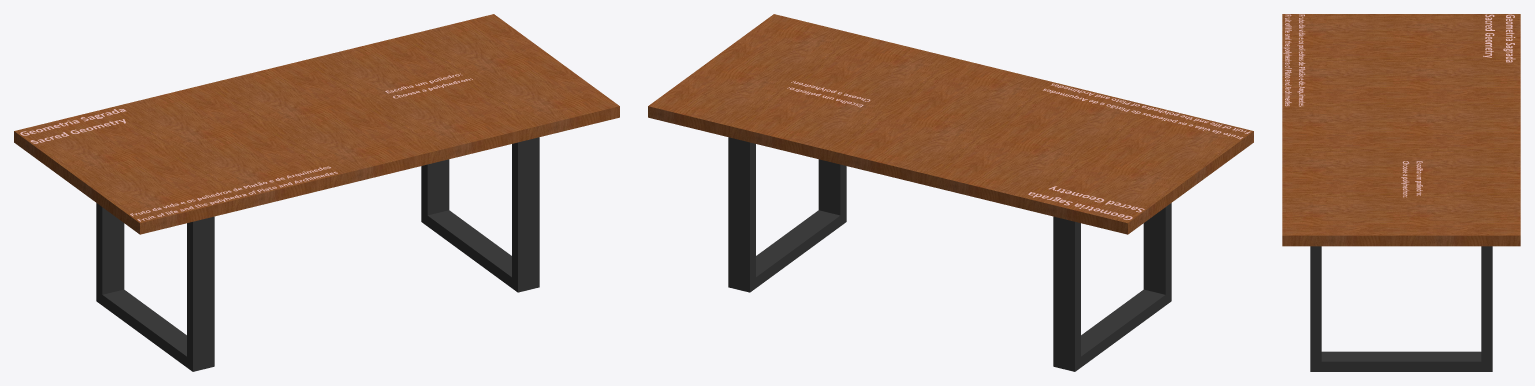
The model's file is geomSagrada1fr.glb.
The picture shows the model from 3 angles, left to right: view 1: azimuth 30°, elevation 25°; view 2: azimuth 150°, elevation 25°; view 3: azimuth 270°, elevation 25°; orthographic projection. The views are drawn at different scales.
Parts seen in each view (by area): view 1: object 1, Composant#1 (×2), Fruto da vida e, Geometria Sagrad; view 2: object 1, Composant#1 (×2), Fruto da vida e, Geometria Sagrad; view 3: object 1, Composant#1, Fruto da vida e, Geometria Sagrad, Escolha um polie.
Part boxes in pixels (bbox=[...]): object 1: bbox=[14, 14, 619, 234]; Composant#1 (×2): bbox=[96, 137, 539, 371]; Fruto da vida e: bbox=[130, 166, 337, 221]; Geometria Sagrad: bbox=[20, 109, 126, 143]; object 1: bbox=[648, 14, 1253, 234]; Composant#1 (×2): bbox=[728, 137, 1171, 371]; Fruto da vida e: bbox=[1043, 83, 1250, 139]; Geometria Sagrad: bbox=[1028, 186, 1144, 219]; object 1: bbox=[1282, 14, 1520, 246]; Composant#1: bbox=[1310, 246, 1492, 371]; Fruto da vida e: bbox=[1283, 14, 1305, 106]; Geometria Sagrad: bbox=[1483, 14, 1515, 62]; Escolha um polie: bbox=[1401, 161, 1422, 197].
Bounding box in the file's own units: 2.2 × 0.7711 × 1.
3 materials, 1 textured.
